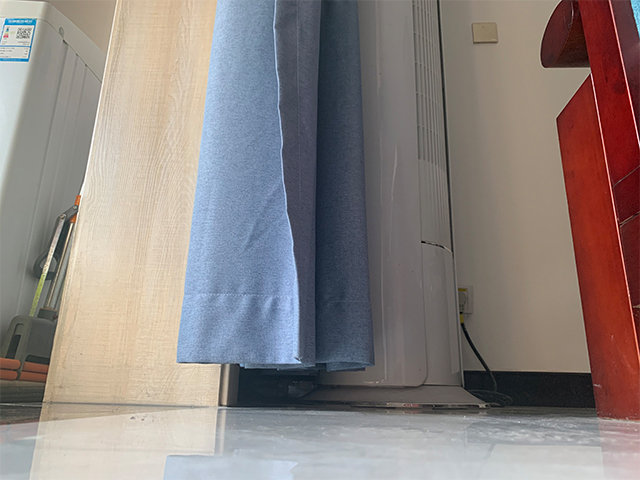curtain: (175, 1, 376, 374)
wire: (457, 289, 514, 407)
